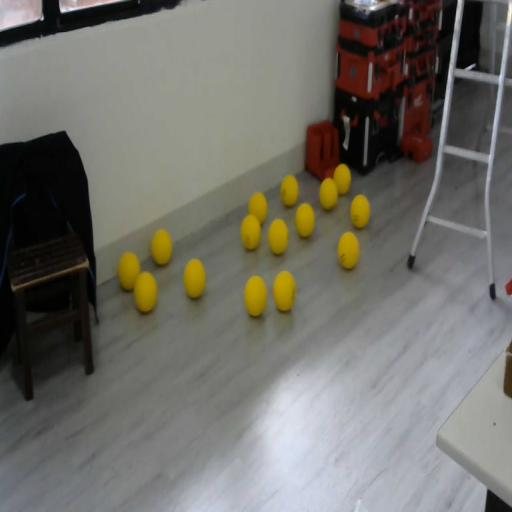FUEL: (243, 274, 268, 319), (133, 270, 158, 314), (117, 250, 141, 292), (273, 270, 296, 312), (183, 258, 206, 298), (150, 228, 173, 266), (337, 231, 359, 270), (268, 218, 288, 256), (248, 191, 268, 226), (295, 203, 315, 238), (350, 194, 370, 228), (319, 176, 338, 210), (280, 174, 299, 206), (333, 163, 352, 194)
